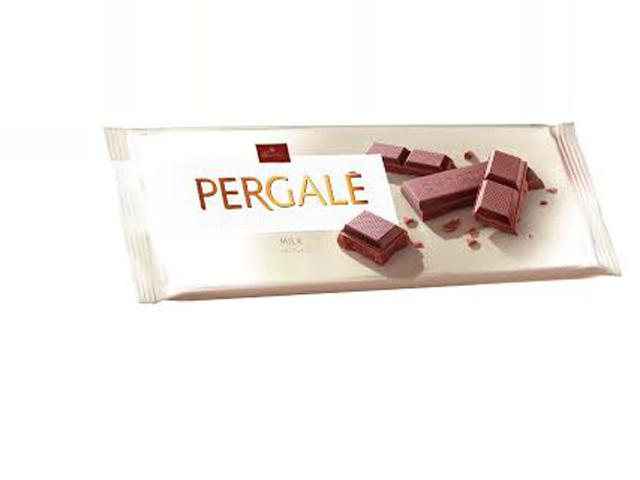chocolate: (96, 122, 630, 296)
